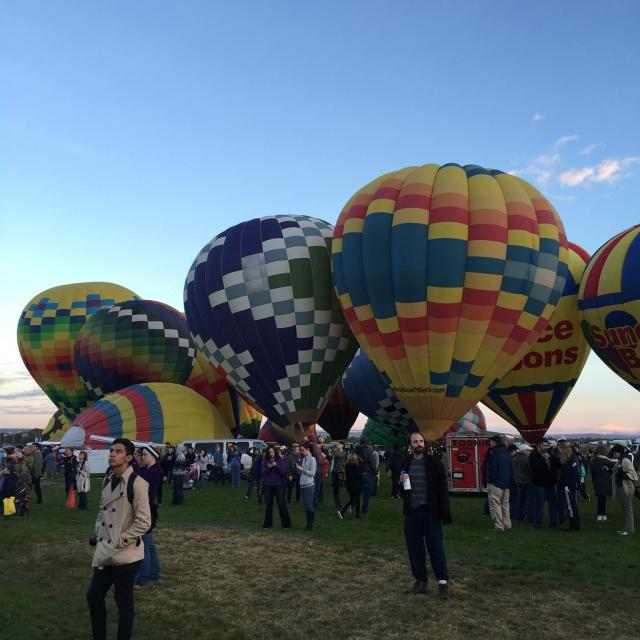balloon: (331, 162, 570, 445), (184, 214, 362, 447), (480, 240, 593, 444), (18, 282, 143, 430), (578, 223, 640, 393)
